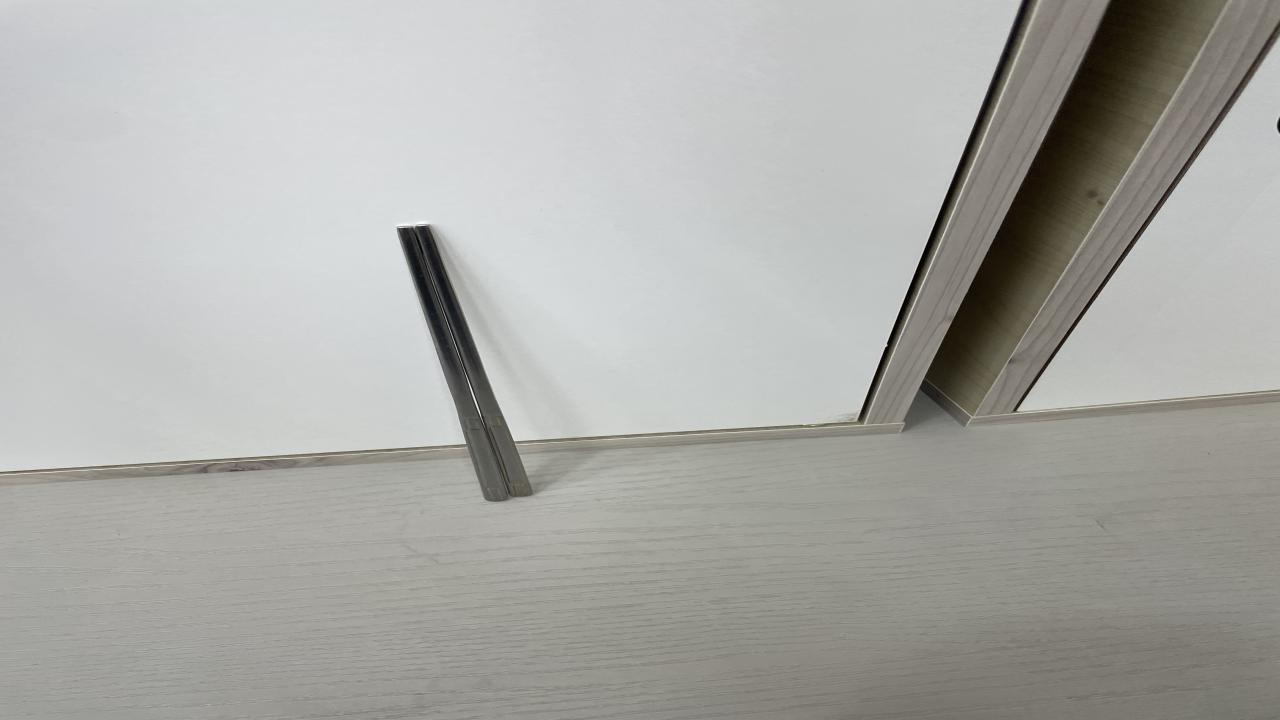chopstick: (392, 226, 534, 500)
